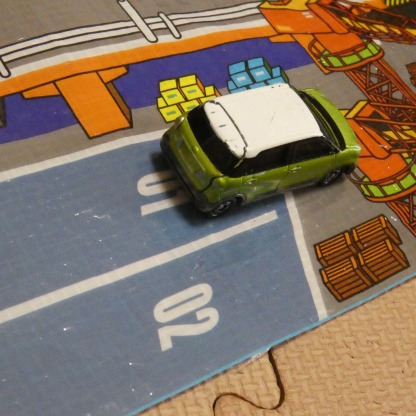car: (160, 79, 358, 219)
